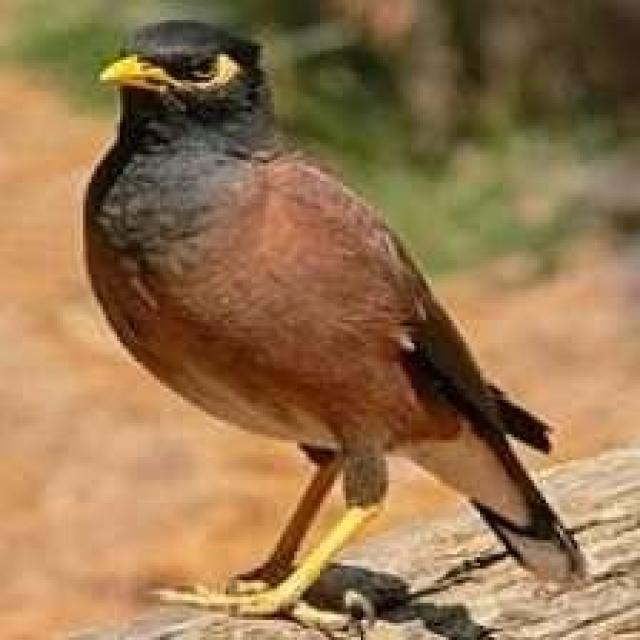bird: (78, 9, 598, 632)
